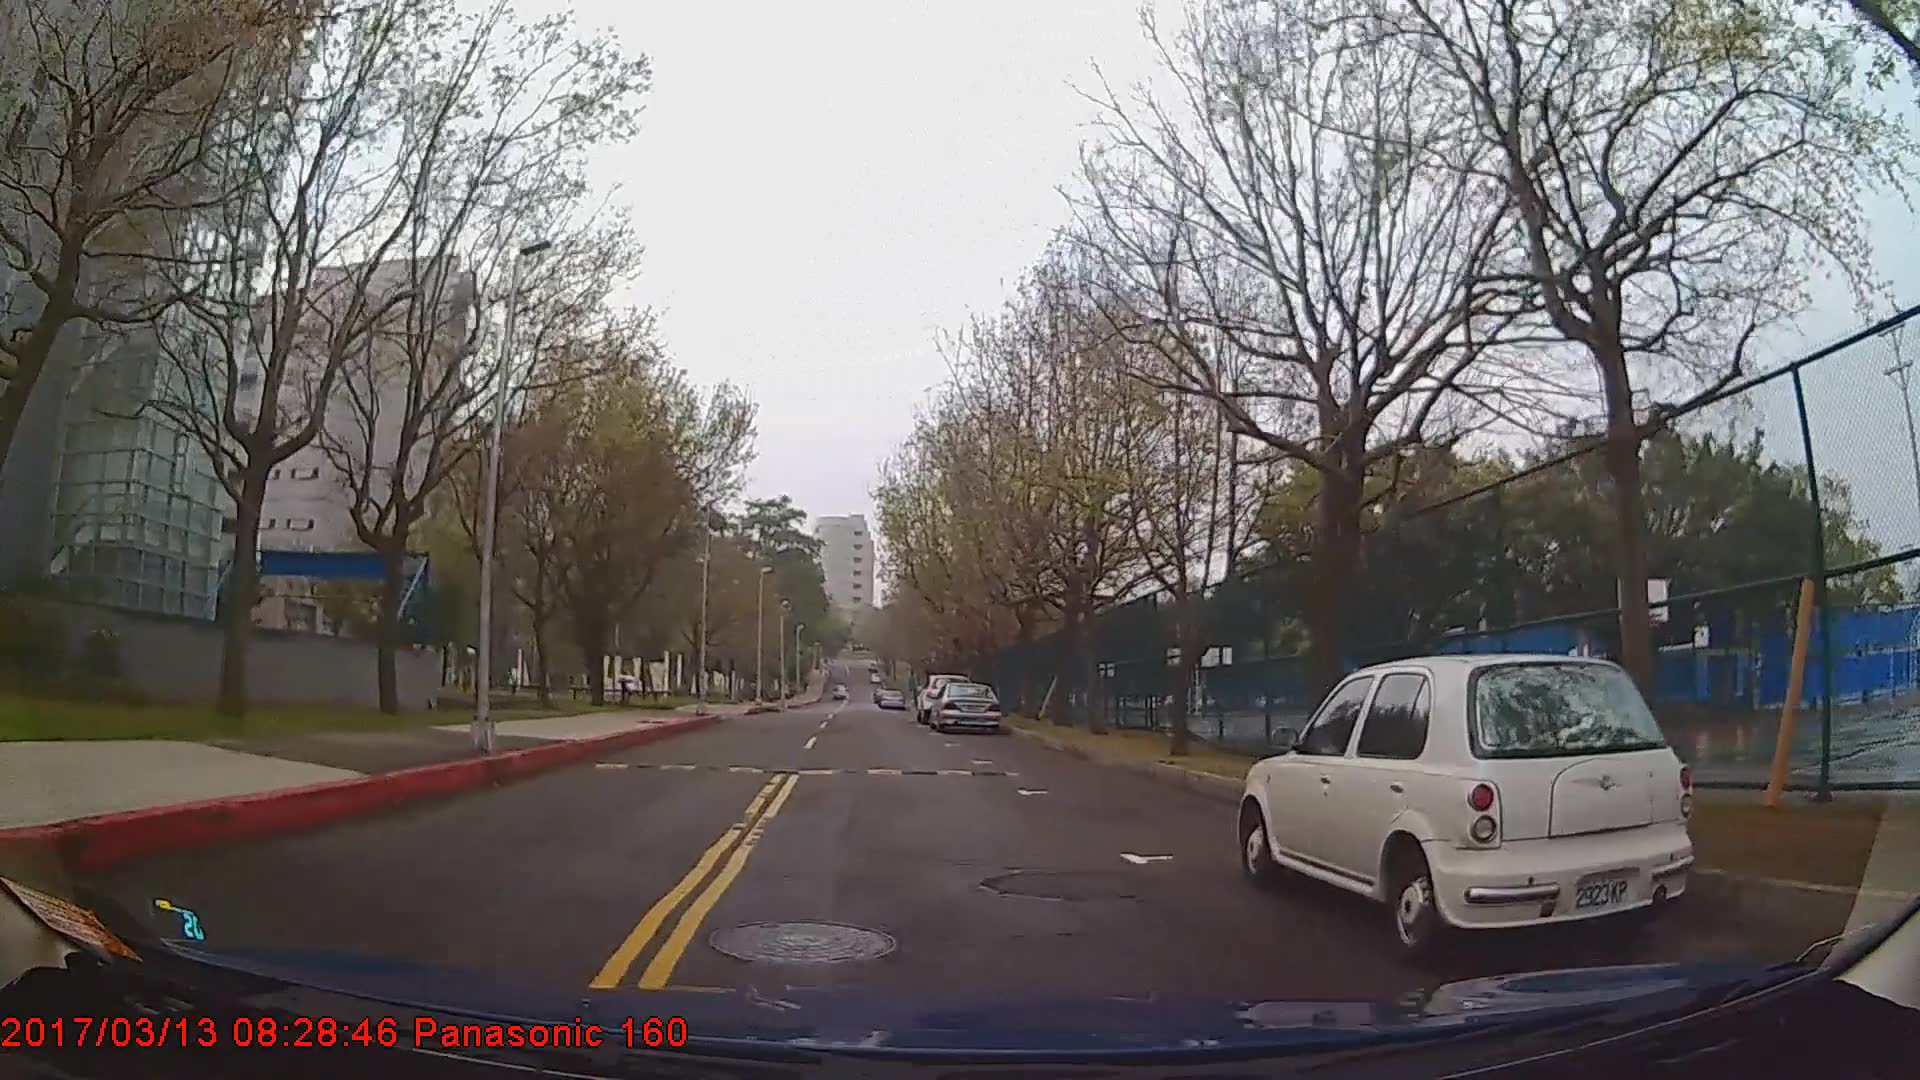vehicle: (1240, 651, 1702, 955), (930, 679, 1004, 731)
